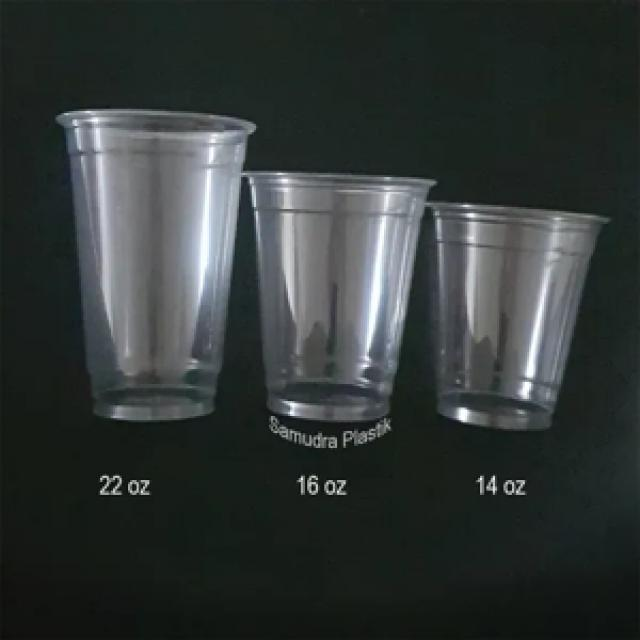plastic cup: (49, 104, 258, 431), (236, 162, 442, 431), (422, 194, 614, 437)
